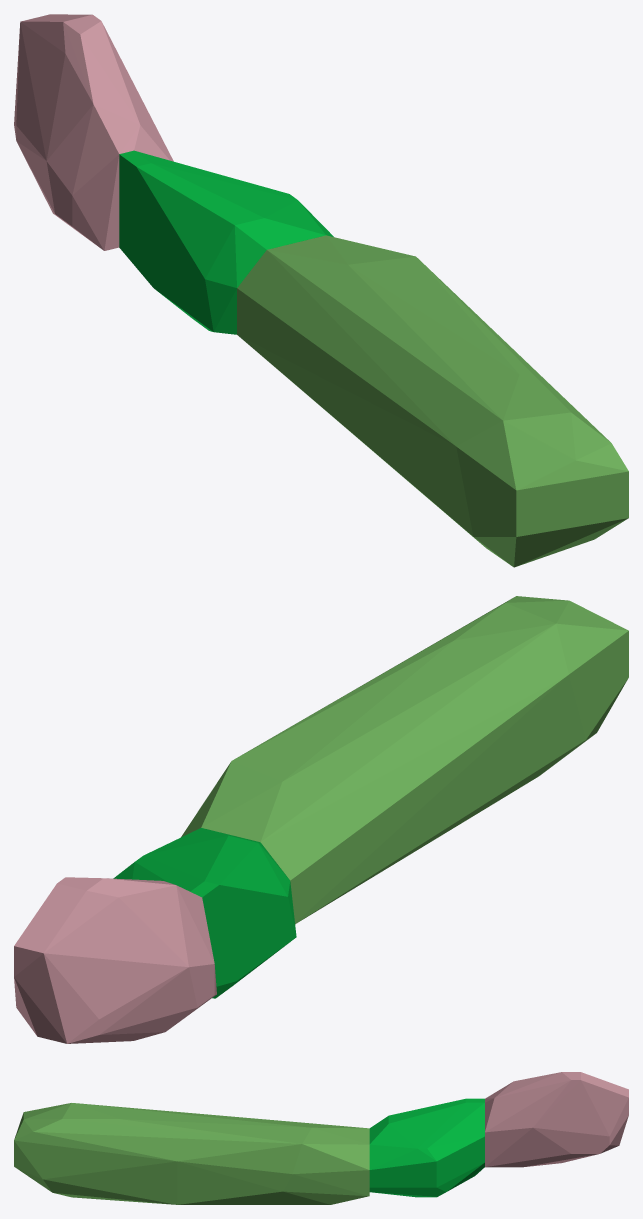
The model's file is dry_branches_medium_01c_phys.fbx.
3 views of the same model, one above another, from view 1: azimuth 30°, elevation 25°; view 2: azimuth 150°, elevation 25°; view 3: azimuth 270°, elevation 25° (orthographic). The views are drawn at different scales.
Parts seen in each view (by area): view 1: dry_branches_medium_01_c_hull_1, dry_branches_medium_01_c_hull_3, dry_branches_medium_01_c_hull_2; view 2: dry_branches_medium_01_c_hull_1, dry_branches_medium_01_c_hull_3, dry_branches_medium_01_c_hull_2; view 3: dry_branches_medium_01_c_hull_1, dry_branches_medium_01_c_hull_3, dry_branches_medium_01_c_hull_2.
Part boxes in pixels (x1=…): dry_branches_medium_01_c_hull_1: x1=237, y1=235, x2=628, y2=567; dry_branches_medium_01_c_hull_3: x1=14, y1=14, x2=173, y2=250; dry_branches_medium_01_c_hull_2: x1=119, y1=150, x2=333, y2=334; dry_branches_medium_01_c_hull_1: x1=181, y1=596, x2=628, y2=924; dry_branches_medium_01_c_hull_3: x1=14, y1=877, x2=216, y2=1043; dry_branches_medium_01_c_hull_2: x1=113, y1=828, x2=296, y2=998; dry_branches_medium_01_c_hull_1: x1=14, y1=1103, x2=369, y2=1204; dry_branches_medium_01_c_hull_3: x1=485, y1=1072, x2=628, y2=1167; dry_branches_medium_01_c_hull_2: x1=369, y1=1098, x2=484, y2=1197.
Size of the model in its own units: 5.83 by 31.08 by 6.31.
